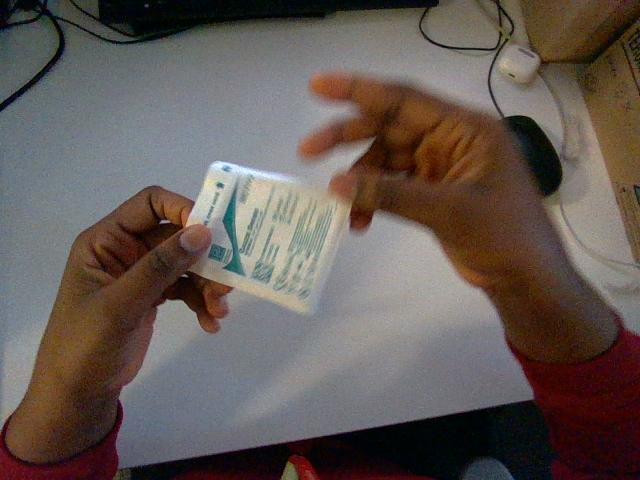gauze: (187, 162, 350, 313)
